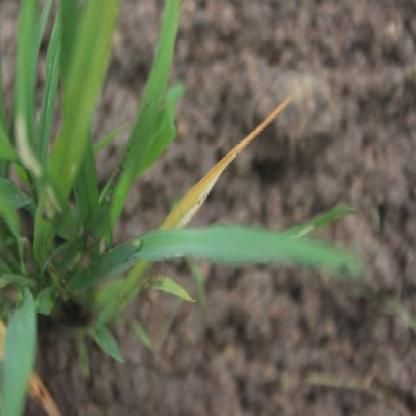Tungro: (157, 97, 286, 227)
